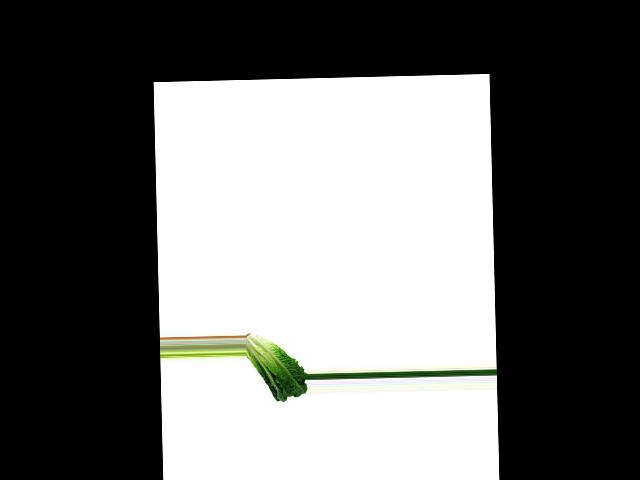lettuce: (245, 331, 307, 403)
